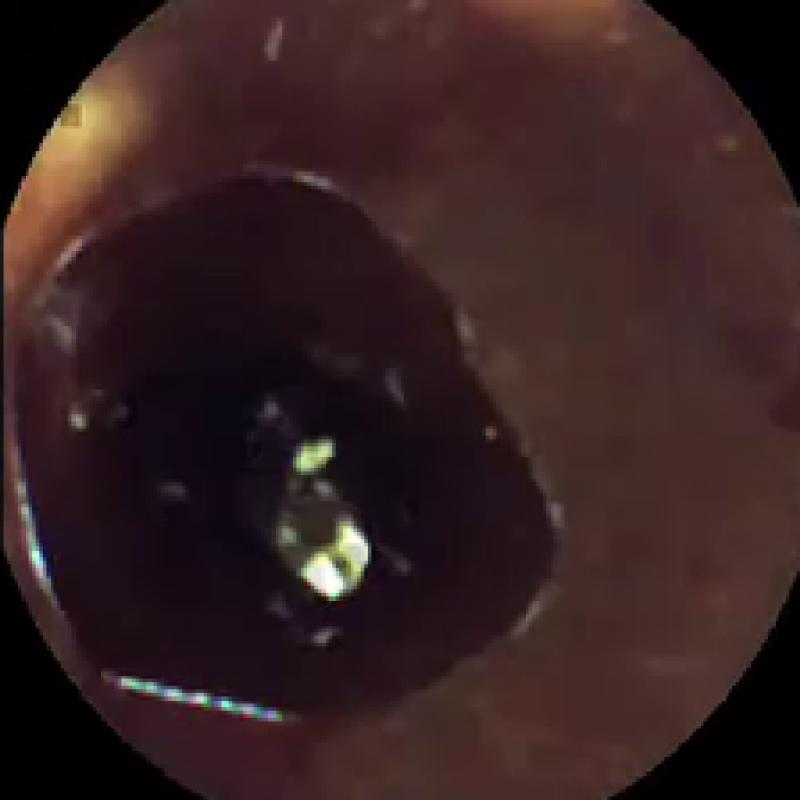bleeding: (3, 164, 560, 718)
